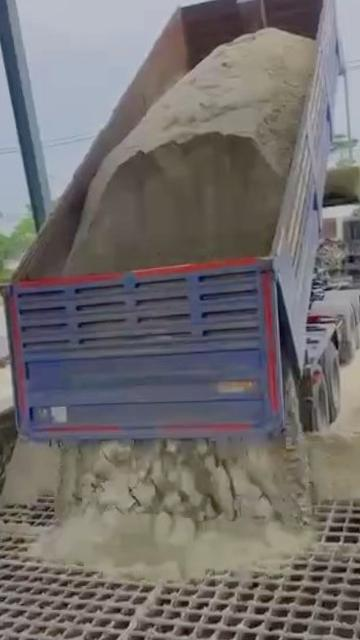sand: (6, 386, 360, 579), (64, 28, 314, 274), (42, 584, 159, 640), (0, 518, 41, 537)
